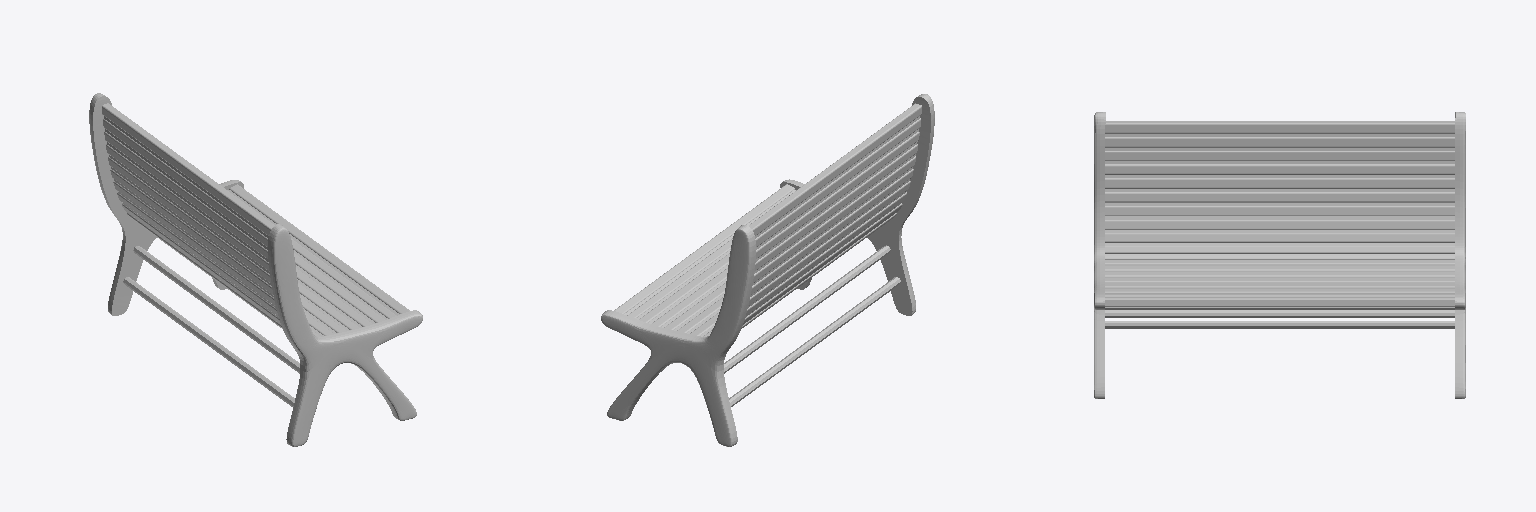
File: chir.obj
3 views of the same model, side by side, from view 1: azimuth 30°, elevation 25°; view 2: azimuth 150°, elevation 25°; view 3: azimuth 270°, elevation 25° (orthographic).
Parts seen in each view (by area): view 1: Object_6, Object_4, Object_14, Object_12; view 2: Object_6, Object_4, Object_14, Object_12; view 3: Object_6, Object_4, Object_10, Object_14, Object_8.
Boxes of the visible parts, <box> form: Object_6: <box>102,103,409,336</box>; Object_4: <box>89,93,422,446</box>; Object_14: <box>123,277,294,406</box>; Object_12: <box>133,246,299,373</box>; Object_6: <box>614,103,921,336</box>; Object_4: <box>601,94,934,446</box>; Object_14: <box>729,277,900,406</box>; Object_12: <box>724,245,890,373</box>; Object_6: <box>1105,121,1454,306</box>; Object_4: <box>1094,112,1465,398</box>; Object_10: <box>1105,321,1454,328</box>; Object_14: <box>1105,310,1454,317</box>; Object_8: <box>1105,307,1454,309</box>.
Bounding box in the file's own units: 0.8669 × 1.22 × 1.85.